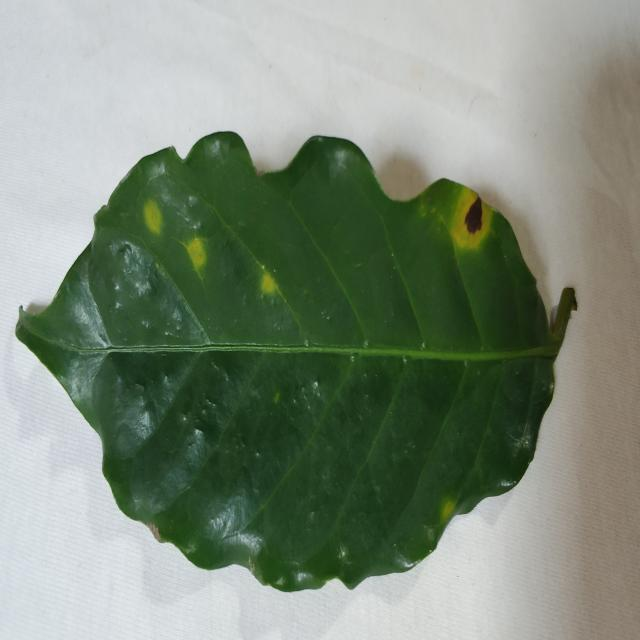Enfermedad-Roya: (14, 132, 577, 596)
